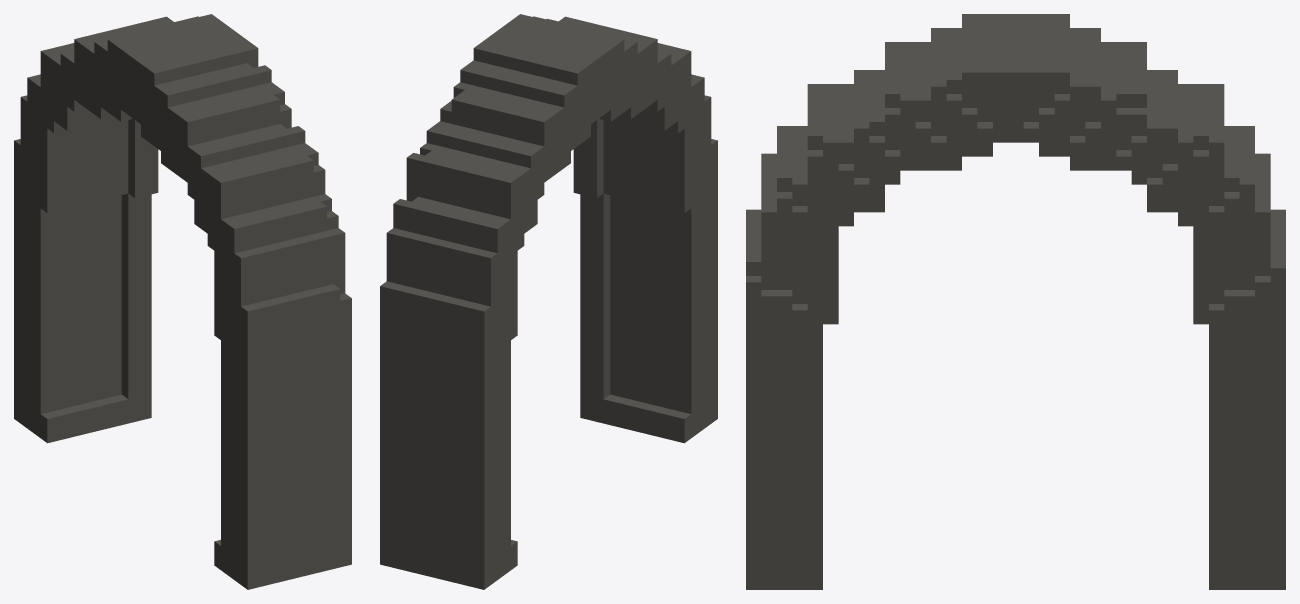
The model's file is Entrance.glb.
3 views of the same model, side by side, from view 1: azimuth 30°, elevation 25°; view 2: azimuth 150°, elevation 25°; view 3: azimuth 270°, elevation 25° (orthographic). The views are drawn at different scales.
Visible parts, largest first — view 1: Entrance; view 2: Entrance; view 3: Entrance.
Boxes of the visible parts, x1,y1,x2,y2 form: Entrance: (14, 14, 351, 589); Entrance: (380, 14, 717, 589); Entrance: (746, 14, 1285, 589).
Size of the model in its own units: 0.846 by 3.48 by 3.29.
1 material, 1 textured.
